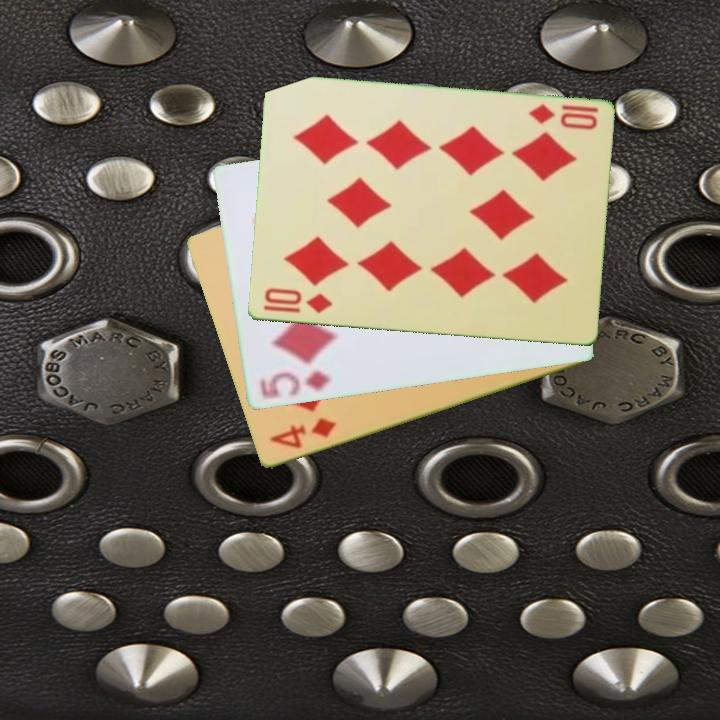10d: (525, 100, 600, 133), (260, 285, 335, 317)
4d: (266, 414, 339, 453)
5d: (256, 367, 334, 402)
